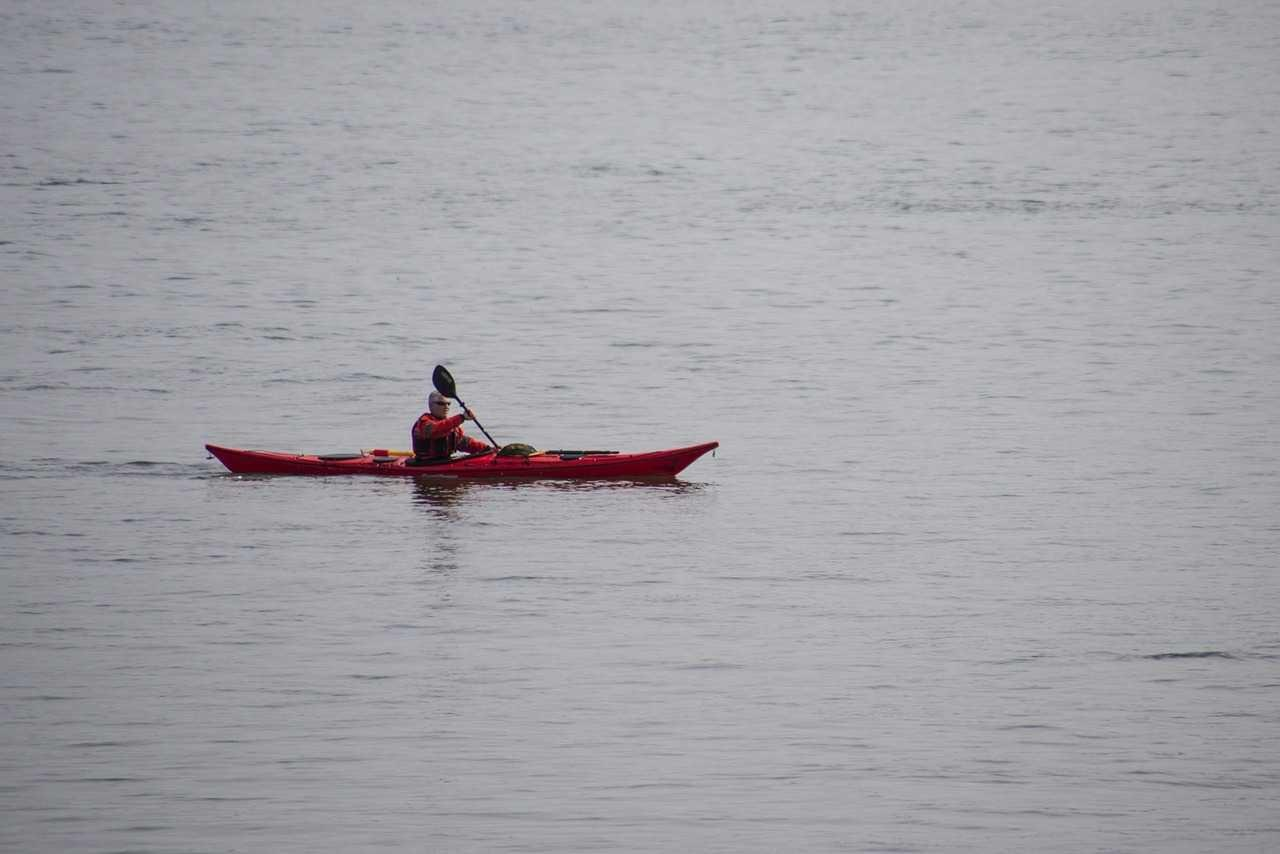kayak: (206, 435, 719, 491)
